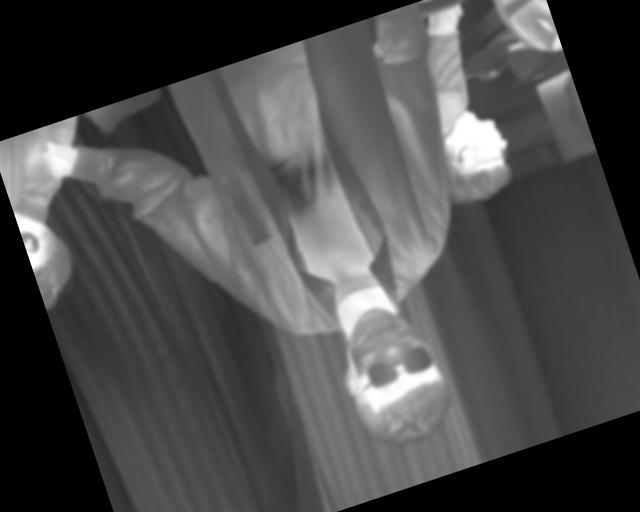face: (323, 290, 467, 459)
